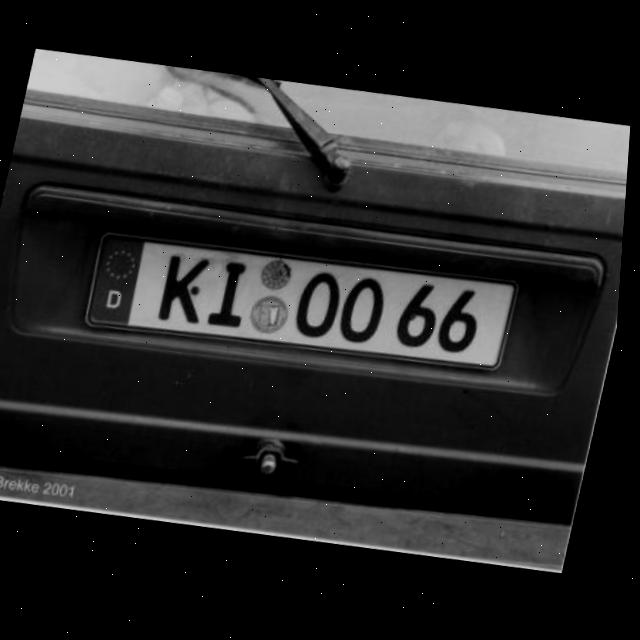license-plates: (86, 234, 517, 369)
